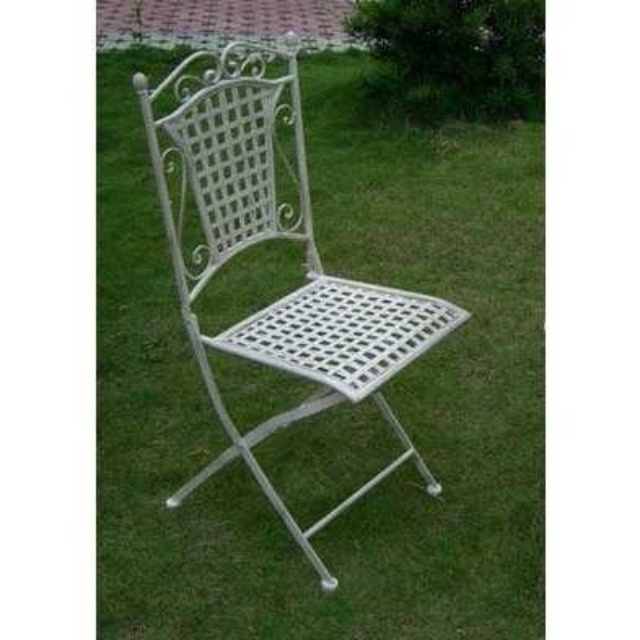obstacle: (132, 40, 467, 589)
